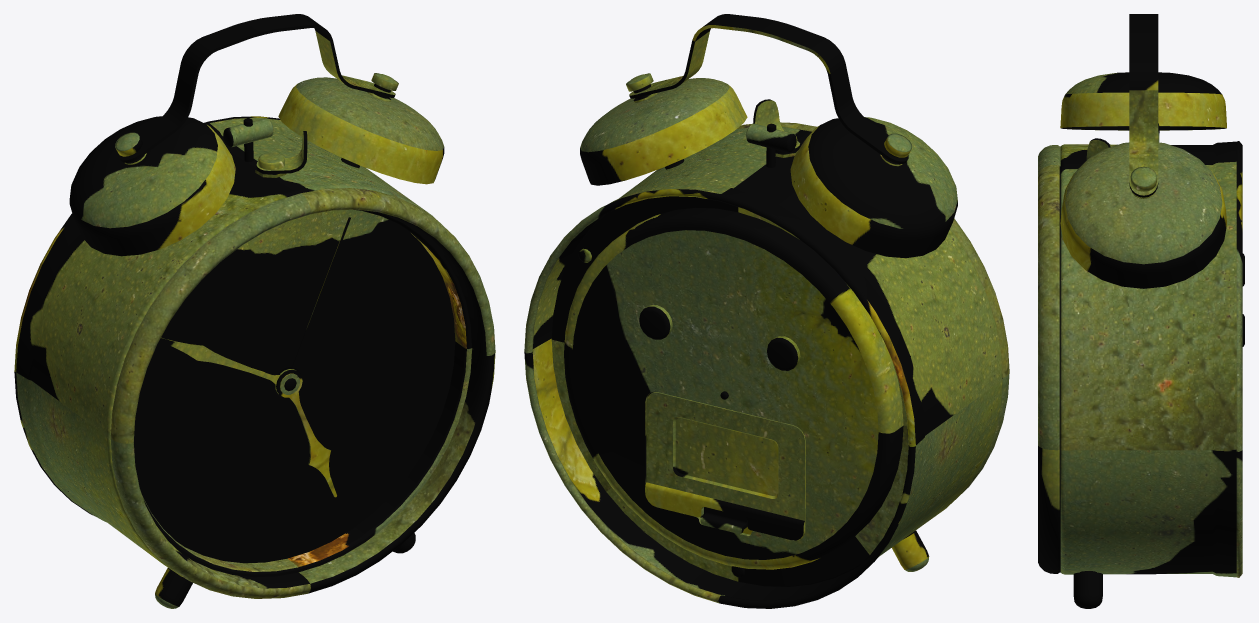
File: clock.obj
3 renders of one model, left to right at view 1: azimuth 30°, elevation 25°; view 2: azimuth 150°, elevation 25°; view 3: azimuth 270°, elevation 25°, orthographic. The views are drawn at different scales.
Parts seen in each view (by area): view 1: alarm_clock_01, alarm_clock_01_hour_hand, alarm_clock_01_minute_hand; view 2: alarm_clock_01; view 3: alarm_clock_01.
Boxes of the visible parts, x1,y1,x2,y2 form: alarm_clock_01: (14,14,495,608); alarm_clock_01_hour_hand: (276,370,336,497); alarm_clock_01_minute_hand: (159,337,295,393); alarm_clock_01: (524,14,1009,608); alarm_clock_01: (1038,14,1244,608).
Size of the model in its own units: 51.87 by 68.62 by 24.51.
